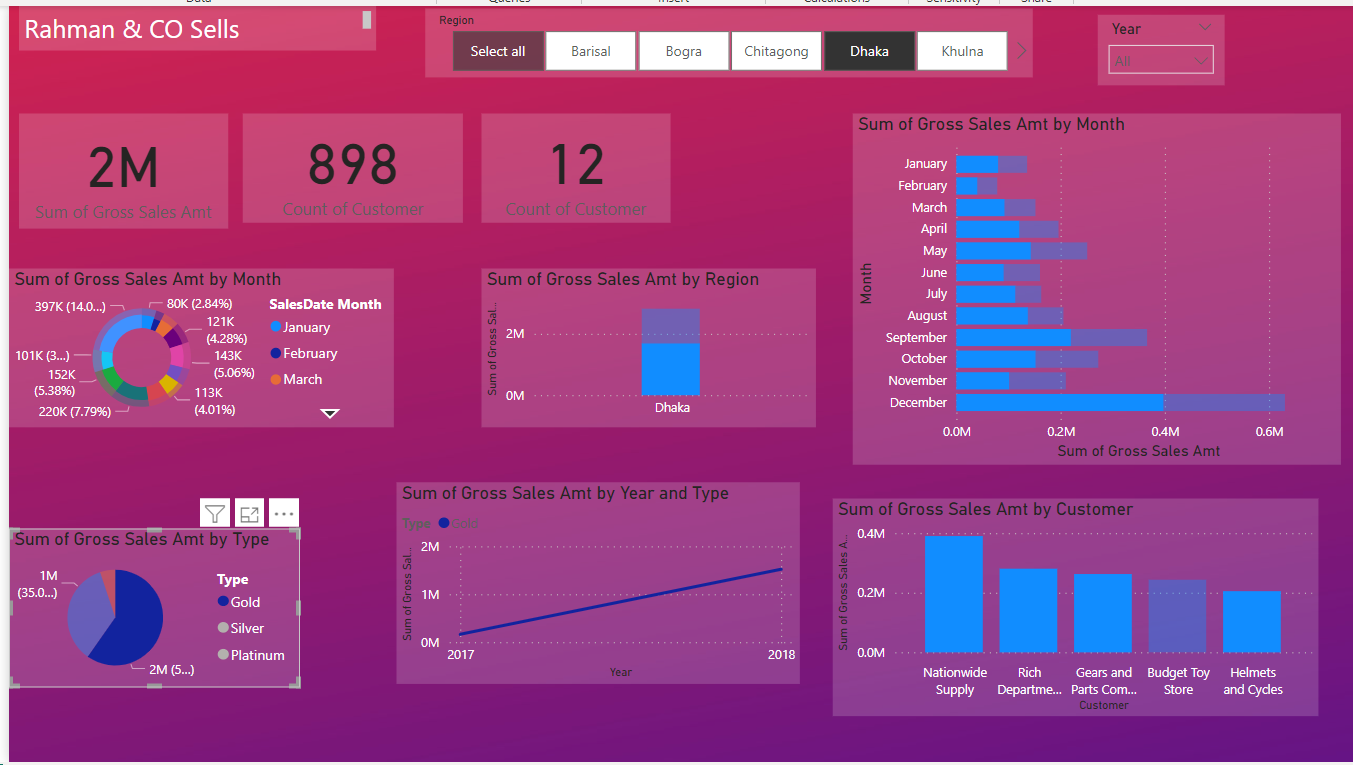

The dashboard page shown, as its layout file describes it:
{"tool":"powerbi","page":{"name":"Page 1","canvas":[1280,720],"ordinal":0},"visuals":[{"type":"textbox","box":[9.6,0,340,42.5],"z":0},{"type":"card","fields":{"Values":["Sheet1.Gross Sales Amt"]},"box":[9.6,102.8,198.8,109.7],"z":1000},{"type":"card","fields":{"Values":["Sheet1.Customer"]},"box":[222.1,102.8,209.8,104.2],"z":2000},{"type":"card","fields":{"Values":["Sheet1.Customer"]},"box":[449.7,102.8,179.6,104.2],"z":3000},{"type":"slicer","fields":{"Values":["Sheet1.Region"]},"box":[396.2,2.7,578.6,65.8],"z":4000},{"type":"slicer","fields":{"Values":["Sheet1.SalesDate.Variation.Date Hierarchy.Year"]},"box":[1036.5,8.2,120.7,67.2],"z":5000},{"type":"columnChart","fields":{"Category":["Sheet1.Region"],"Y":["Sheet1.Gross Sales Amt"]},"box":[449.7,249.5,318.1,150.8],"z":6000},{"type":"donutChart","fields":{"Category":["Sheet1.SalesDate.Variation.Date Hierarchy.Year","Sheet1.SalesDate.Variation.Date Hierarchy.Quarter","Sheet1.SalesDate.Variation.Date Hierarchy.Month","Sheet1.SalesDate.Variation.Date Hierarchy.Day"],"Y":["Sheet1.Gross Sales Amt"]},"box":[0,249.5,366.1,150.8],"z":7000},{"type":"pieChart","fields":{"Category":["Sheet1.Type"],"Y":["Sheet1.Gross Sales Amt"]},"box":[0,497.7,277,150.8],"z":8000},{"type":"barChart","fields":{"Category":["Sheet1.SalesDate.Variation.Date Hierarchy.Month"],"Y":["Sheet1.Gross Sales Amt"]},"box":[803.4,102.8,464.8,334.5],"z":9000},{"type":"lineChart","fields":{"Category":["Sheet1.SalesDate.Variation.Date Hierarchy.Year","Sheet1.SalesDate.Variation.Date Hierarchy.Month"],"Y":["Sheet1.Gross Sales Amt"],"Series":["Sheet1.Type"]},"box":[368.8,453.8,383.9,191.9],"z":9001},{"type":"columnChart","fields":{"Category":["Sheet1.Customer"],"Y":["Sheet1.Gross Sales Amt"]},"box":[784.2,468.9,462,207],"z":9002}]}

Visuals, with their boxes on the page's 1280x720 design canvas (x1, y1, x2, y2). These are canvas units, not pixel positions in the 1353x765 screenshot, which may show the page scaled, cropped or inside an application window:
textbox: (10,0,350,42)
card - Sheet1.Gross Sales Amt: (10,103,208,212)
card - Sheet1.Customer: (222,103,432,207)
card - Sheet1.Customer: (450,103,629,207)
slicer - Sheet1.Region: (396,3,975,68)
slicer - Sheet1.SalesDate.Variation.Date Hierarchy.Year: (1036,8,1157,75)
columnChart - Sheet1.Region x Sheet1.Gross Sales Amt: (450,250,768,400)
donutChart - Sheet1.SalesDate.Variation.Date Hierarchy.Year x Sheet1.SalesDate.Variation.Date Hierarchy.Quarter: (0,250,366,400)
pieChart - Sheet1.Type x Sheet1.Gross Sales Amt: (0,498,277,648)
barChart - Sheet1.SalesDate.Variation.Date Hierarchy.Month x Sheet1.Gross Sales Amt: (803,103,1268,437)
lineChart - Sheet1.SalesDate.Variation.Date Hierarchy.Year x Sheet1.SalesDate.Variation.Date Hierarchy.Month: (369,454,753,646)
columnChart - Sheet1.Customer x Sheet1.Gross Sales Amt: (784,469,1246,676)
